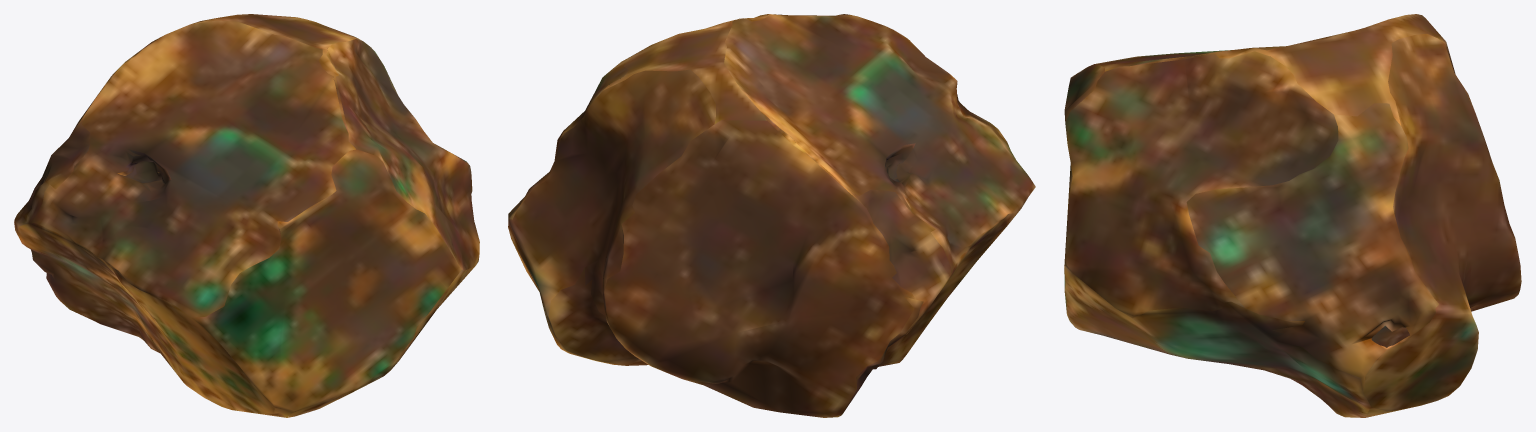
Rendered from pepita.movil.glb.
The picture shows the model from 3 angles, left to right: view 1: azimuth 30°, elevation 25°; view 2: azimuth 150°, elevation 25°; view 3: azimuth 270°, elevation 25°; orthographic projection. The views are drawn at different scales.
Visible parts, largest first — view 1: geometry_0; view 2: geometry_0; view 3: geometry_0.
Part boxes in pixels (x1,y1,x2,y2): geometry_0: (14, 14, 479, 417); geometry_0: (508, 14, 1035, 417); geometry_0: (1064, 14, 1521, 417).
Bounding box in the file's own units: 0.2997 × 0.2198 × 0.2599.
1 material, 1 textured.
